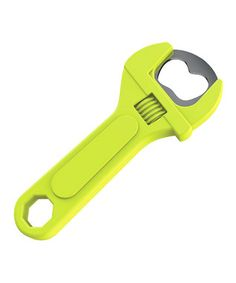bottleopener: (14, 42, 223, 240)
